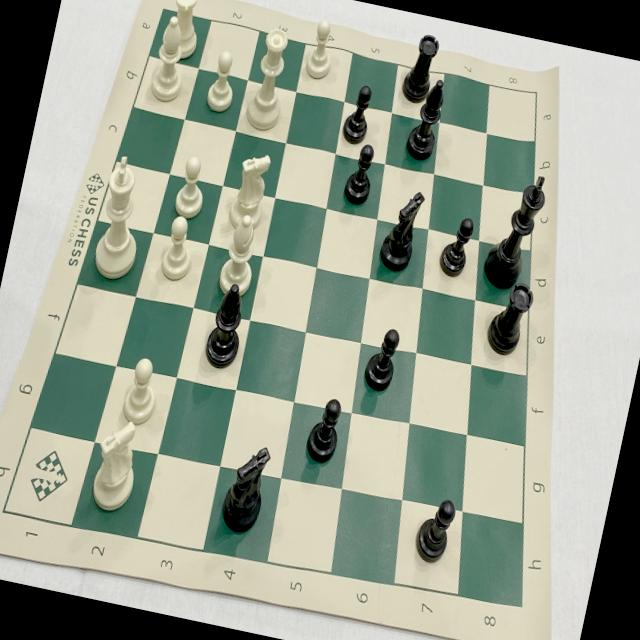black-bishop: (199, 277, 253, 374), (401, 72, 452, 170)
black-king: (478, 158, 554, 294)
black-knight: (215, 434, 278, 540), (374, 182, 429, 278)
black-pawn: (408, 490, 460, 570), (358, 319, 407, 398), (301, 392, 348, 469), (436, 208, 480, 282), (340, 138, 381, 210), (337, 79, 377, 148)
black-rook: (480, 273, 540, 364), (396, 25, 445, 109)
white-bishop: (140, 12, 200, 107), (215, 208, 265, 298)
white-king: (83, 150, 158, 285)
white-knight: (83, 410, 149, 518), (223, 145, 279, 237)
white-pawn: (116, 352, 166, 430), (152, 212, 204, 286), (200, 41, 246, 119), (168, 150, 215, 224), (300, 11, 343, 85)
white-queen: (239, 20, 302, 136)
white-rook: (157, 0, 211, 67)
